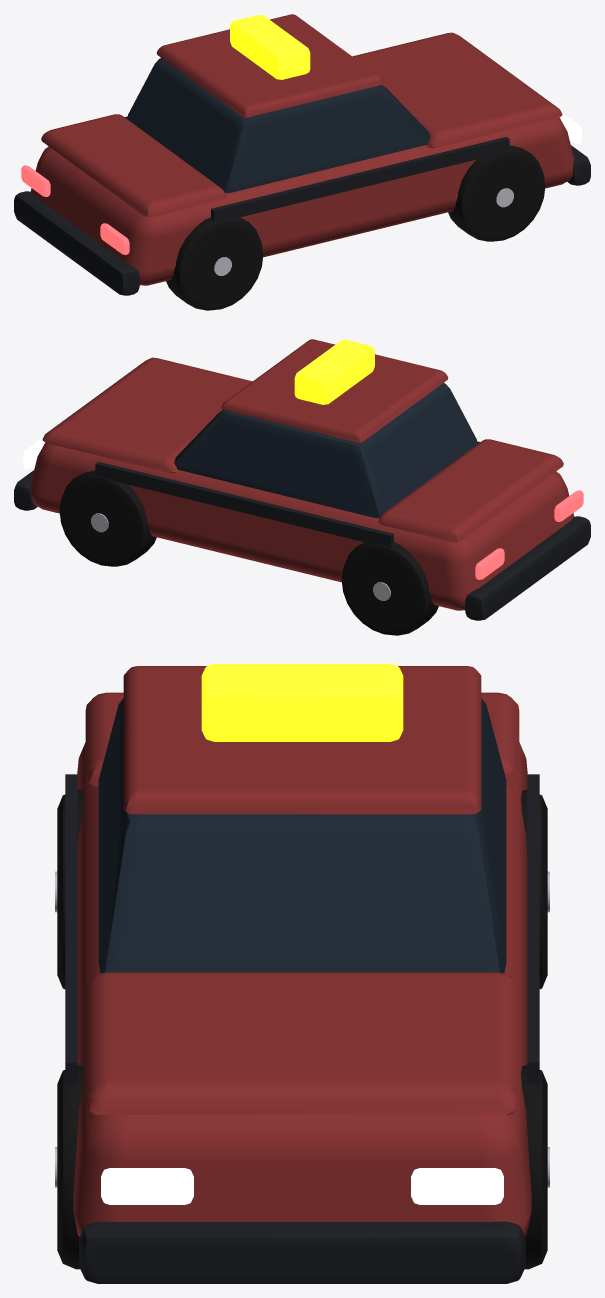
Rendered from taxi.glb.
3 renders of one model, top to bottom at view 1: azimuth 30°, elevation 25°; view 2: azimuth 150°, elevation 25°; view 3: azimuth 270°, elevation 25°, orthographic. The views are drawn at different scales.
Parts seen in each view (by area): view 1: part-paint, part-glass, part-trim, wheel--10--1-tyre, wheel-+10--1-tyre, part-taxi-sign, part-taillight; view 2: part-paint, part-glass, part-trim, wheel--10-1-tyre, wheel-+10-1-tyre, part-taxi-sign, part-taillight; view 3: part-paint, part-glass, part-trim, part-taxi-sign, wheel-+10-1-tyre, wheel-+10--1-tyre, headlight-1, headlight--1, wheel--10-1-tyre, wheel--10--1-tyre.
Part boxes in pixels (x1,y1,x2,y2): part-paint: (30, 14, 574, 285); part-glass: (127, 58, 430, 193); part-trim: (14, 116, 590, 295); wheel--10--1-tyre: (166, 217, 263, 310); wheel-+10--1-tyre: (448, 145, 545, 241); part-taxi-sign: (230, 15, 310, 79); part-taillight: (21, 165, 129, 254); part-paint: (30, 339, 574, 610); part-glass: (174, 383, 477, 518); part-trim: (14, 441, 590, 620); wheel--10-1-tyre: (341, 542, 438, 635); wheel-+10-1-tyre: (59, 470, 156, 566); part-taxi-sign: (294, 340, 374, 404); part-taillight: (475, 490, 583, 579); part-paint: (73, 666, 531, 1236); part-glass: (98, 698, 506, 973); part-trim: (65, 774, 539, 1283); part-taxi-sign: (201, 664, 403, 741); wheel-+10-1-tyre: (521, 1065, 547, 1269); wheel-+10--1-tyre: (57, 1065, 83, 1269); headlight-1: (411, 1168, 503, 1204); headlight--1: (101, 1168, 193, 1204); wheel--10-1-tyre: (521, 790, 547, 989); wheel--10--1-tyre: (57, 790, 83, 989).
Bounding box in the file's own units: 35.2 × 14.75 × 15.96.
